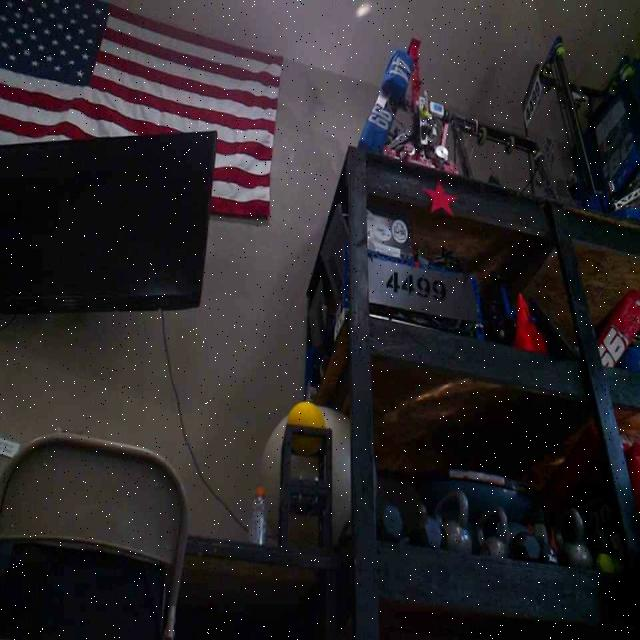star_red: (423, 179, 456, 216)
